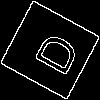D: (25, 25, 81, 78)
